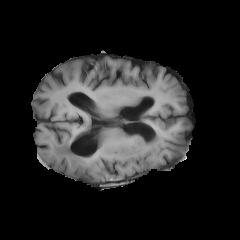glioma: (53, 137, 161, 182)
